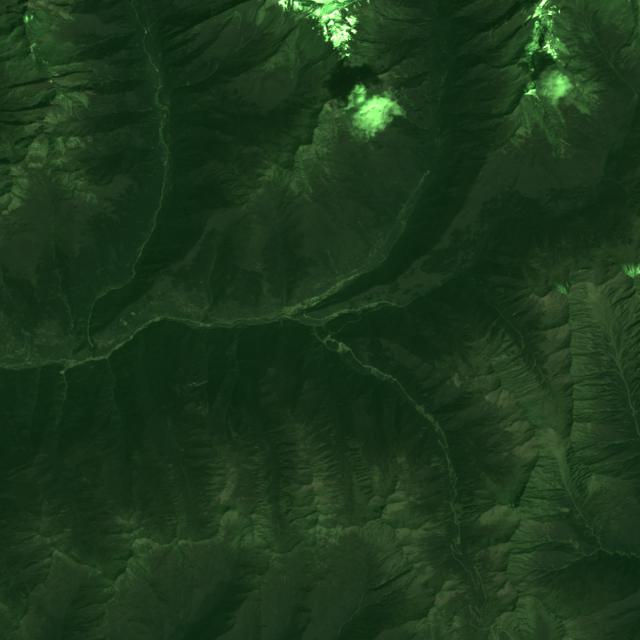landslides: (327, 250, 342, 286), (359, 221, 376, 245), (402, 415, 421, 436), (381, 202, 398, 220), (219, 12, 235, 29), (619, 338, 630, 359), (620, 350, 635, 365), (623, 358, 637, 373), (605, 387, 628, 396), (187, 380, 208, 387), (511, 138, 523, 150), (629, 59, 640, 71), (120, 317, 129, 329), (106, 274, 113, 289)
